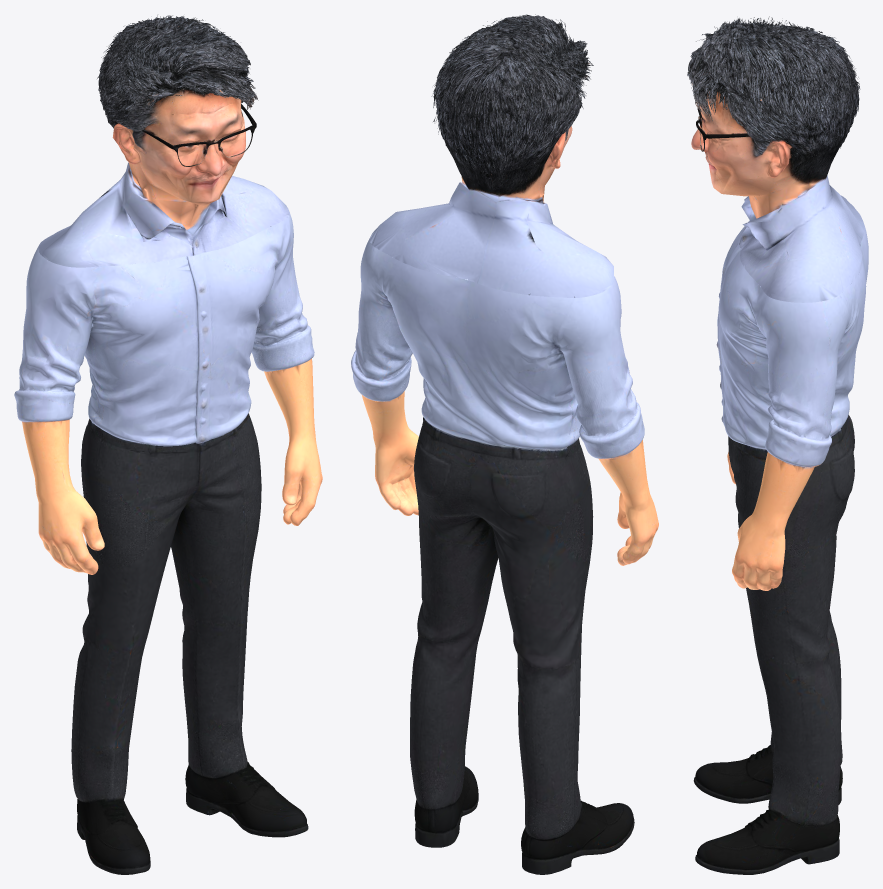
Rendered from hwang-chaho.glb.
3 renders of one model, left to right at view 1: azimuth 30°, elevation 25°; view 2: azimuth 150°, elevation 25°; view 3: azimuth 270°, elevation 25°, orthographic.
Size of the model in its own units: 0.7006 by 1.9 by 0.3895.
2 materials, 2 textured.
